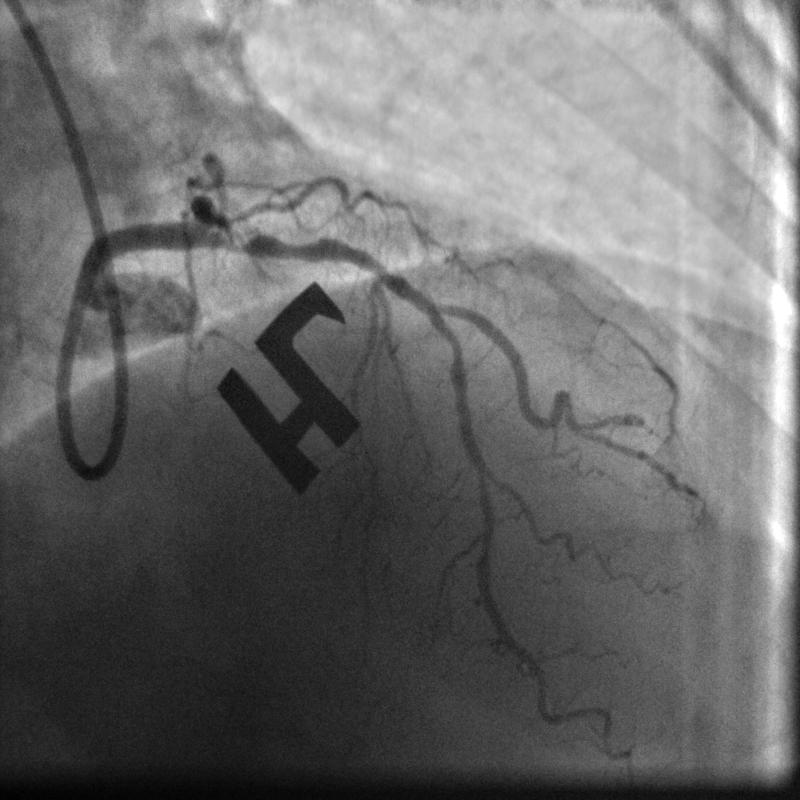Stenosis: (221, 225, 331, 260)
